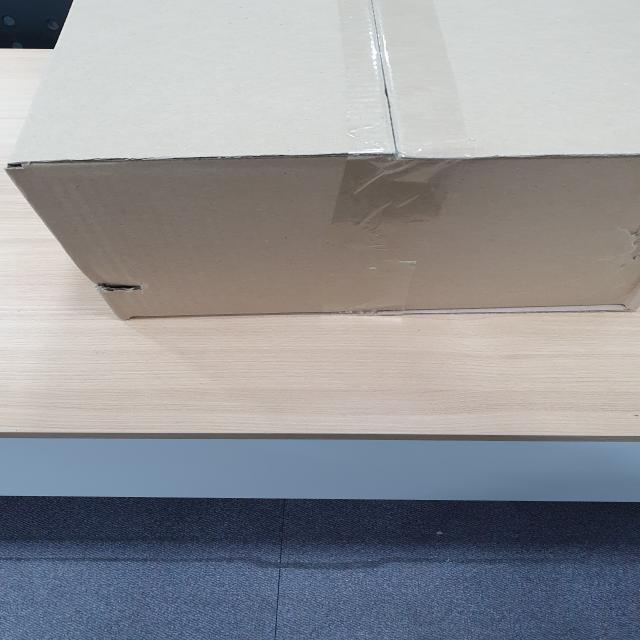hole: (94, 276, 146, 296)
